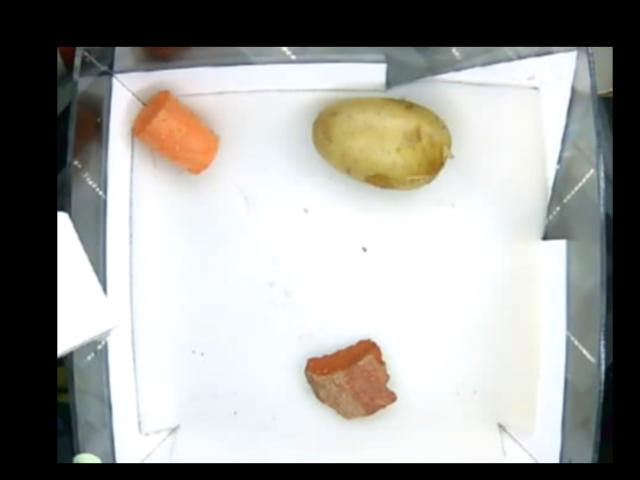Brisk: (303, 339, 399, 419)
Carrot: (133, 90, 221, 176)
Potato: (312, 98, 452, 192)
